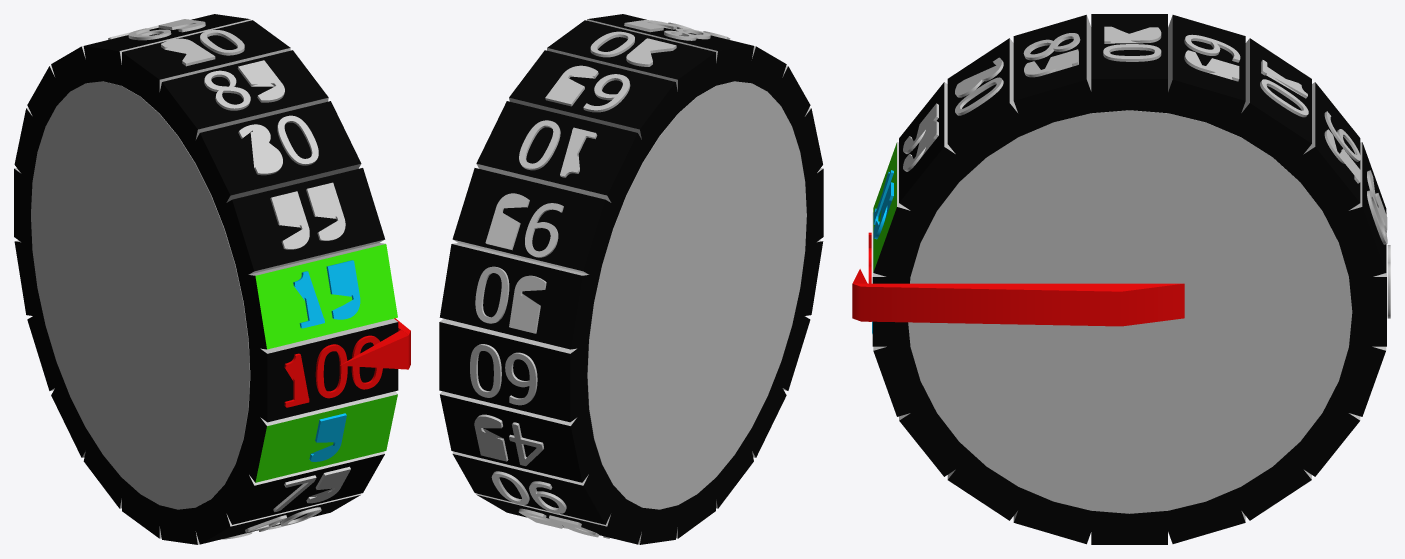
File: WheelOfTriumph.fbx
3 views of the same model, side by side, from view 1: azimuth 30°, elevation 25°; view 2: azimuth 150°, elevation 25°; view 3: azimuth 270°, elevation 25° (orthographic).
Visible parts, largest first — view 1: Facets, Center, Pointer; view 2: Facets, Center; view 3: Center, Facets, Arm.
Part boxes in pixels (x1,y1,x2,y2): Facets: (14,14,398,544); Center: (31,81,250,509); Pointer: (340,330,408,369); Facets: (439,14,823,544); Center: (587,81,806,509); Center: (908,110,1352,513); Facets: (868,14,1390,544); Arm: (852,283,1184,326).
Bounding box in the file's own units: 226 × 680 × 702.
